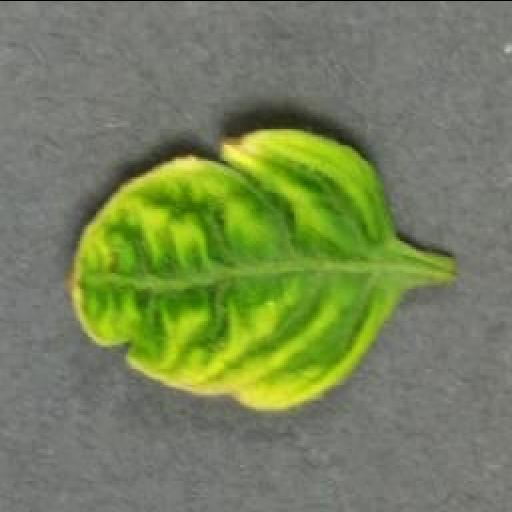disease_tomato: (69, 126, 391, 408)
